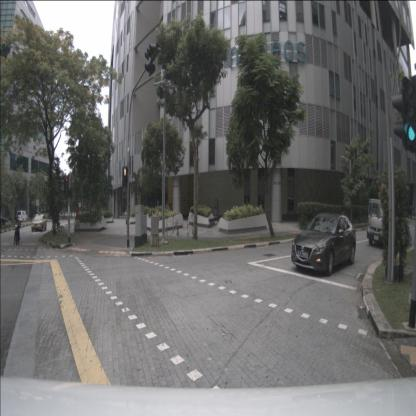human-pedestrian-adult: (74, 204, 80, 234)
vehicle-bicycle: (50, 218, 65, 236)
vehicle-car: (291, 213, 356, 276), (367, 198, 408, 248), (31, 214, 47, 232), (16, 210, 28, 222), (0, 215, 6, 225)
vehicle-motorcycle: (13, 215, 21, 245)
